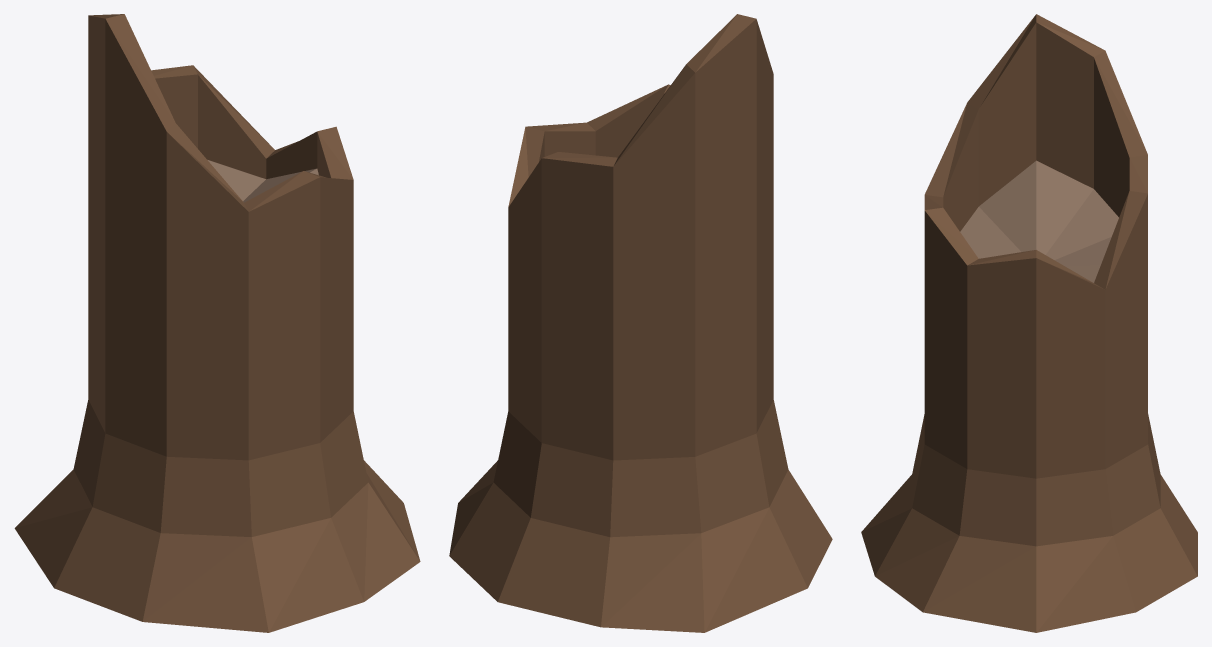
The model's file is Tree-trunk-4.fbx.
3 renders of one model, left to right at view 1: azimuth 30°, elevation 25°; view 2: azimuth 150°, elevation 25°; view 3: azimuth 270°, elevation 25°, orthographic. The views are drawn at different scales.
Visible parts, largest first — view 1: Boomstam_4; view 2: Boomstam_4; view 3: Boomstam_4.
Part boxes in pixels (left/top/right/bottom): Boomstam_4: left=14, top=14, right=420, bottom=632; Boomstam_4: left=449, top=14, right=832, bottom=632; Boomstam_4: left=861, top=14, right=1197, bottom=632.
Bounding box in the file's own units: 275 × 418 × 260.
1 material, 1 textured.
